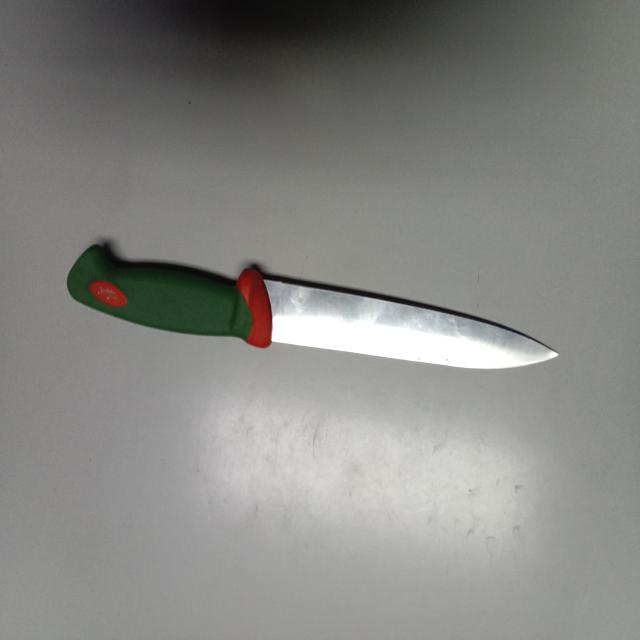Knife: (66, 244, 558, 369)
